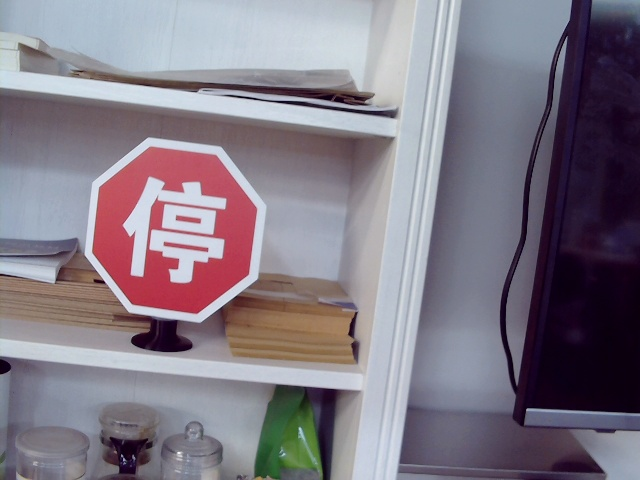stop: (123, 177, 229, 282)
